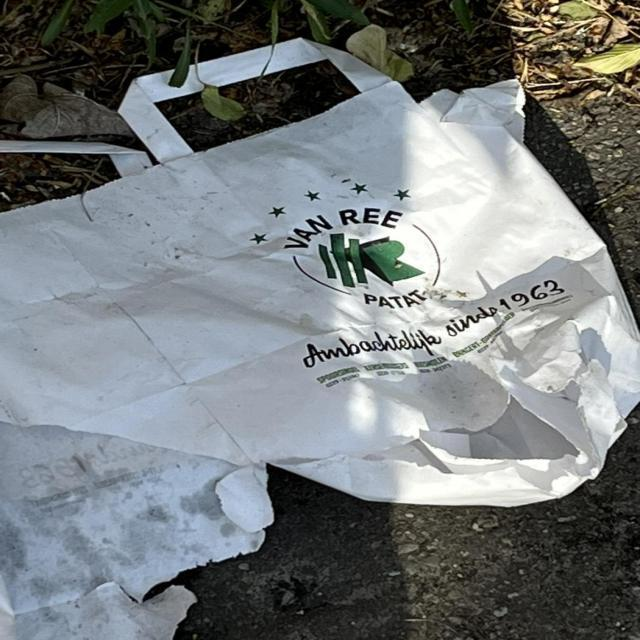Paper: (1, 33, 638, 508)
